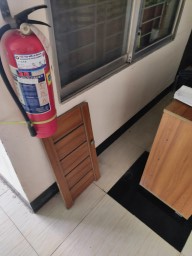fire_extinguisher: (2, 178, 104, 256), (17, 178, 104, 255)
